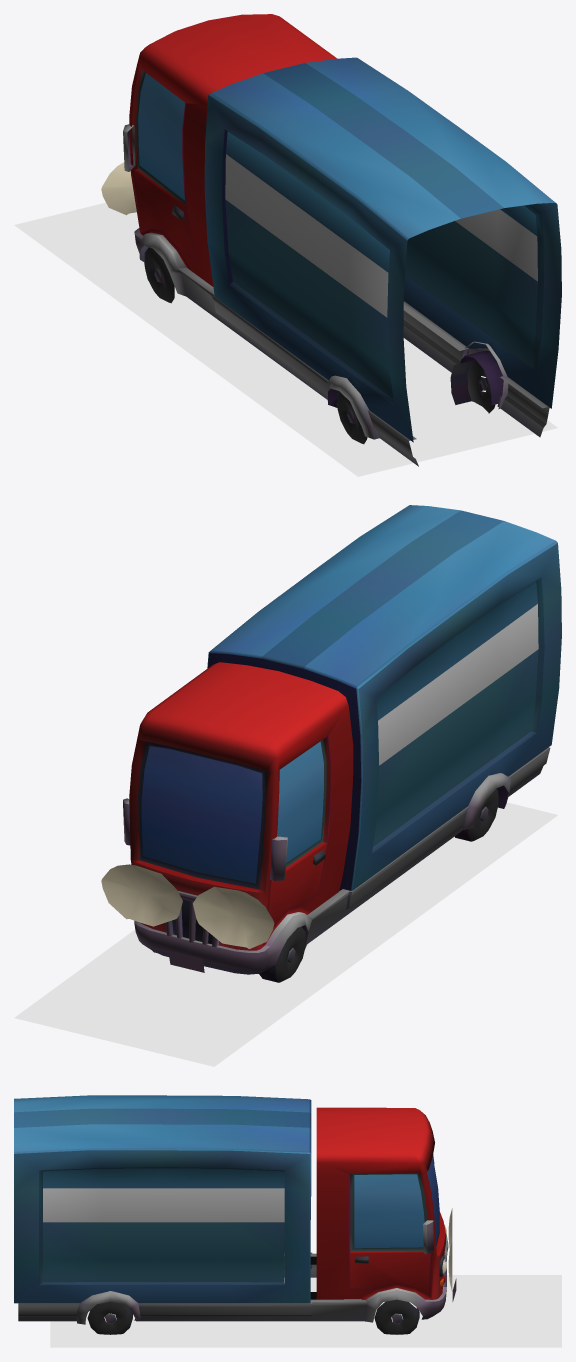
The model's file is City_Double4_Truck02.fbx.
3 renders of one model, top to bottom at view 1: azimuth 30°, elevation 25°; view 2: azimuth 150°, elevation 25°; view 3: azimuth 270°, elevation 25°, orthographic. The views are drawn at different scales.
Visible parts, largest first — view 1: city_double4_truck02, truck01Shadow, truckLights; view 2: city_double4_truck02, truck01Shadow, truckLights; view 3: city_double4_truck02, truck01Shadow, truckLights.
Part boxes in pixels (<box>): city_double4_truck02: <box>123,14,561,466</box>; truck01Shadow: <box>14,202,557,476</box>; truckLights: <box>101,162,136,215</box>; city_double4_truck02: <box>123,505,561,982</box>; truck01Shadow: <box>14,802,557,1066</box>; truckLights: <box>101,864,274,949</box>; city_double4_truck02: <box>14,1095,456,1334</box>; truck01Shadow: <box>50,1275,561,1347</box>; truckLights: <box>442,1208,452,1291</box>.
Size of the model in its own units: 148 by 188 by 470.
